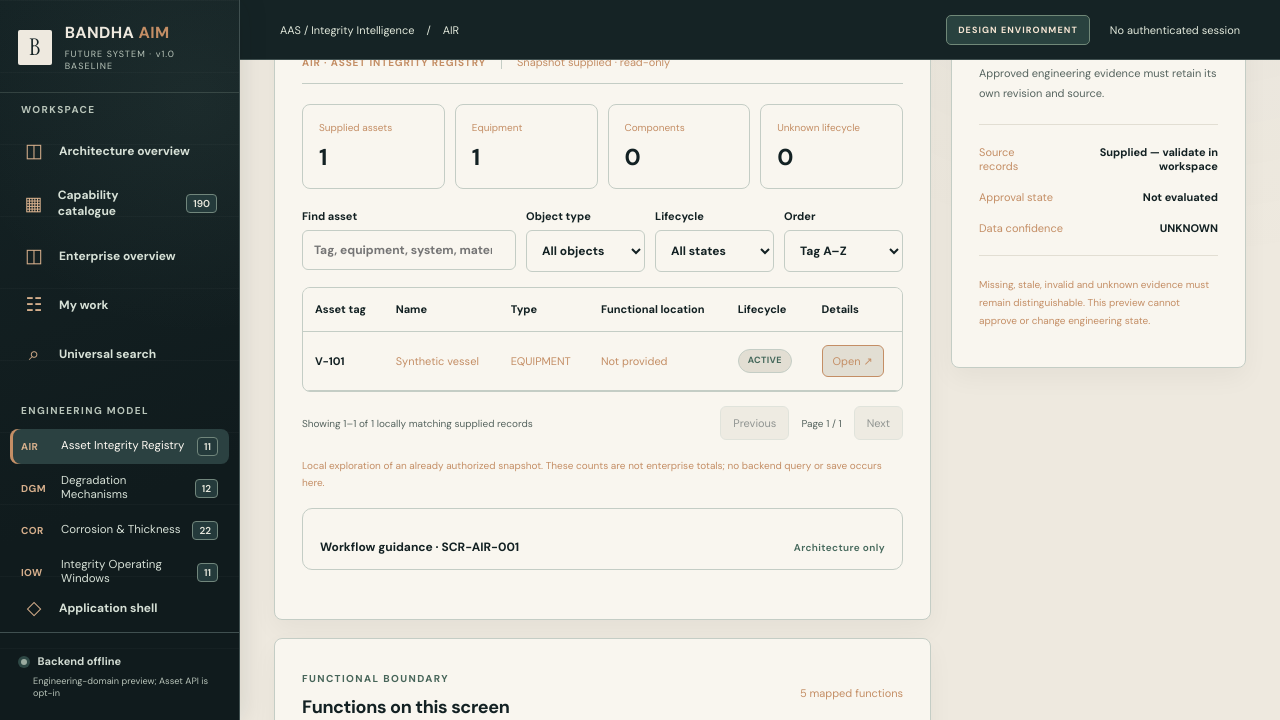
Test: Phase 46.5: owning-domain evidence journey › removes evidence on cross-domain scope withdrawal
(page scrolled)
Click the button with aria-label "Open V-101 workspace": (853,361) left=822, top=345, right=884, bottom=377
(page scrolled)
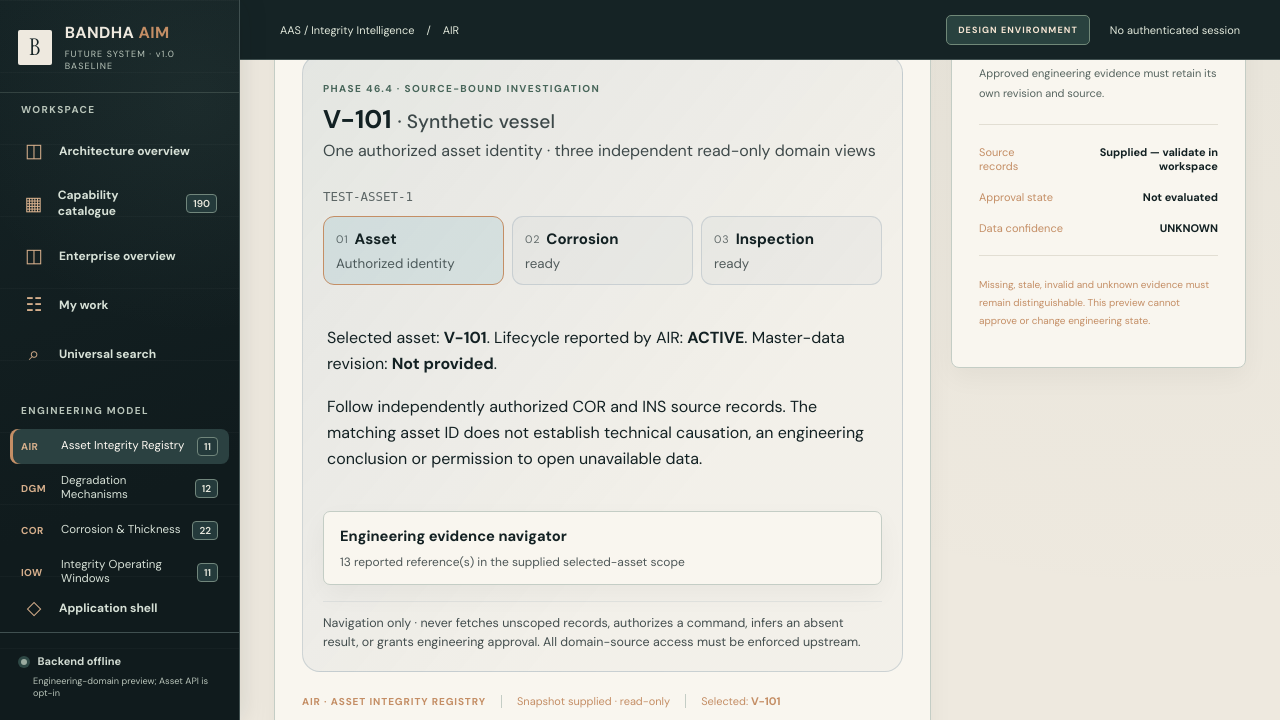
Check: the text "Engineering evidence navigator" is shown, box left=340, top=526, right=567, bottom=546
